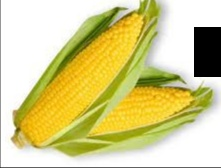corn: (13, 2, 156, 150), (54, 87, 209, 154)
